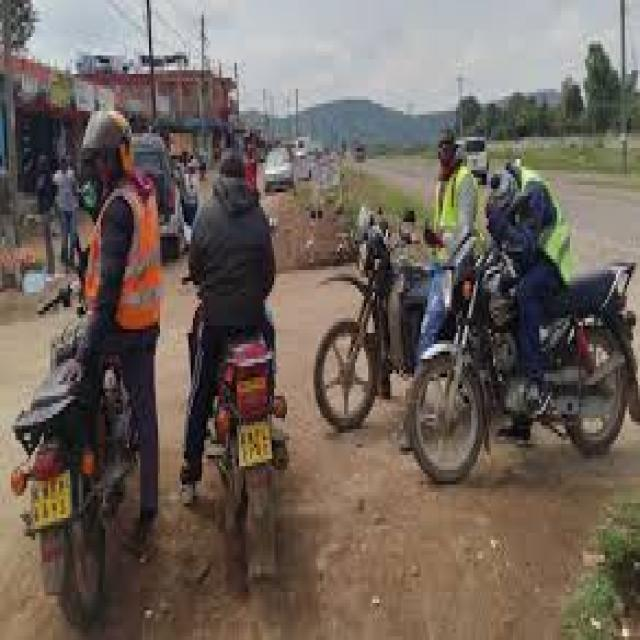bodaboda: (409, 230, 640, 530), (170, 232, 328, 610), (13, 213, 147, 629)
